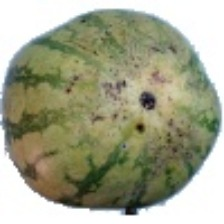watermelon: (24, 11, 224, 183)
